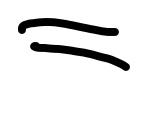eqv: (18, 18, 130, 71)
